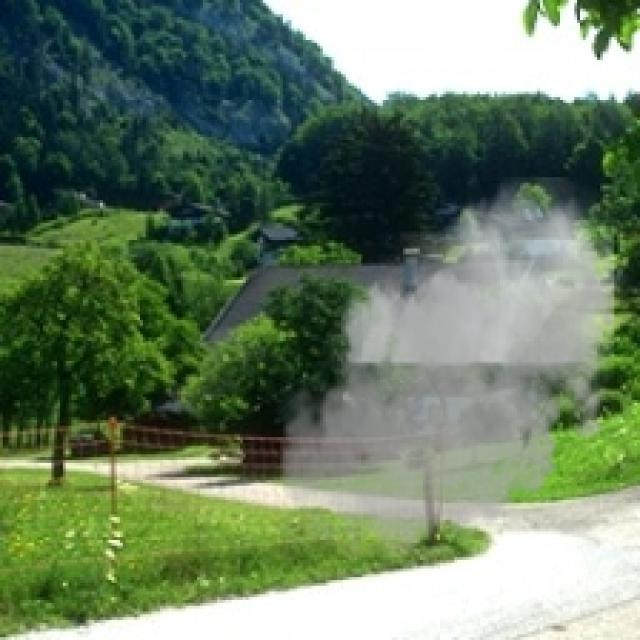Smoke: (272, 177, 628, 572)
